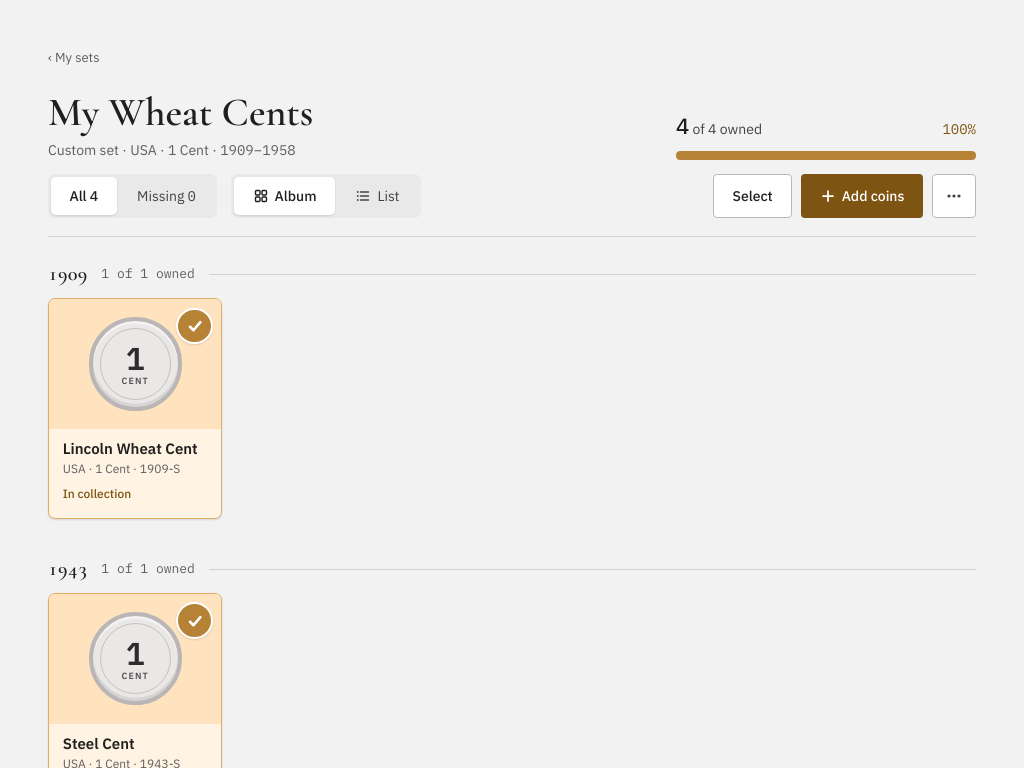
Test: SetEditorPage missing-list controls › criterion 8: controls disabled when nothing is missing › disables the button and aria-disables the link when every slot is owned
What coordinates should you click on to do the following:
click the button with test id "set-editor-actions-trigger"
I would click on:
 (954, 196)
Its box is x1=932 y1=174 x2=976 y2=218.
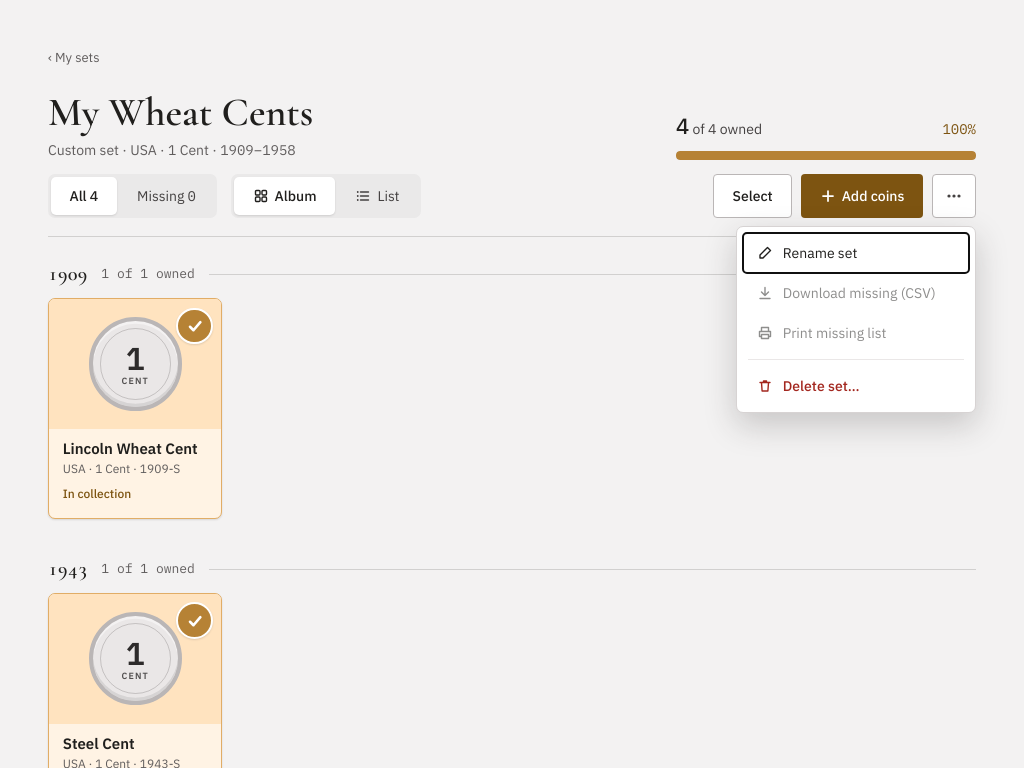
Check: the menu item with test id "set-editor-download-missing" is disabled, box x1=743 y1=273 x2=969 y2=313
